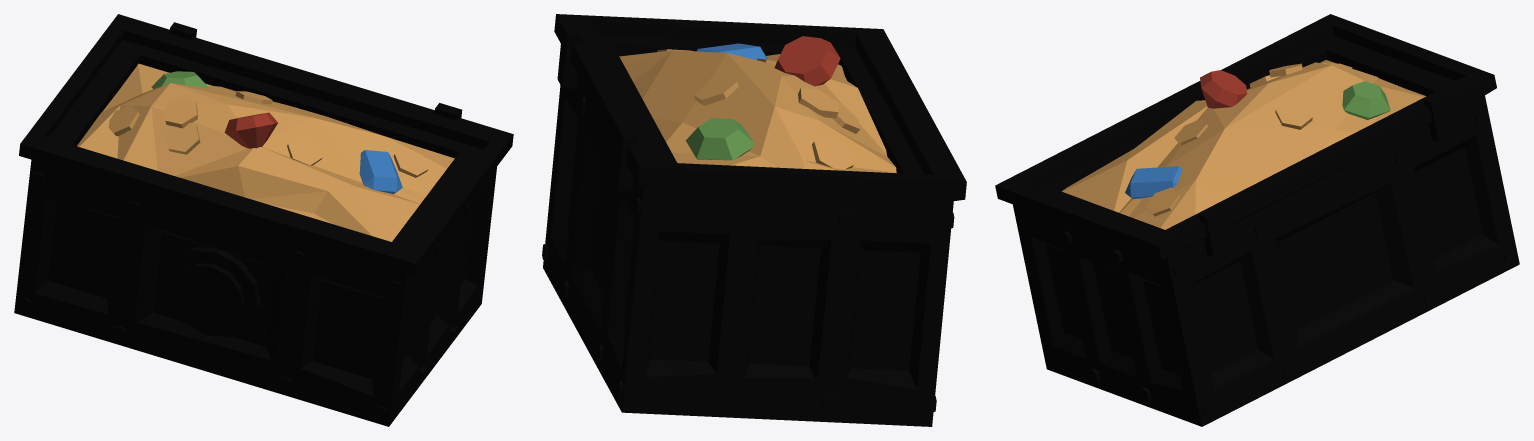
File: SM_Prop_Chest_Treasure_01.glb
3 views of the same model, side by side, from view 1: azimuth 30°, elevation 25°; view 2: azimuth 150°, elevation 25°; view 3: azimuth 270°, elevation 25° (orthographic). The views are drawn at different scales.
Parts seen in each view (by area): view 1: mesh_id5, node_id6; view 2: mesh_id5, node_id6; view 3: mesh_id5, node_id6.
Boxes of the visible parts, <box> form: mesh_id5: <box>14,14,513,426</box>; node_id6: <box>77,63,454,241</box>; mesh_id5: <box>542,14,966,426</box>; node_id6: <box>619,36,896,173</box>; mesh_id5: <box>995,14,1519,426</box>; node_id6: <box>1062,60,1426,229</box>.
Bounding box in the file's own units: 0.565 × 0.3501 × 0.6163.
2 materials, 2 textured.
